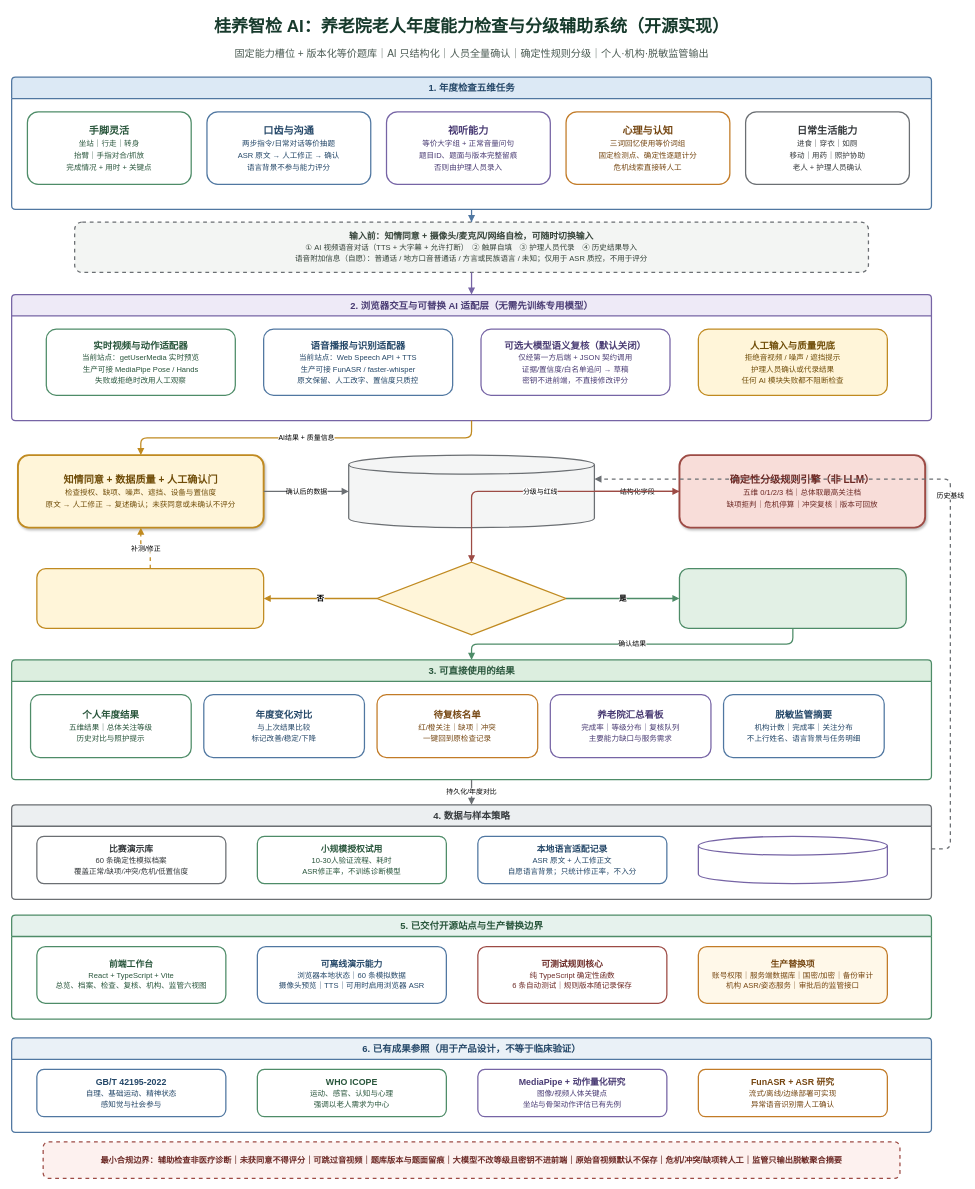
Image size: 975x1189. Some labels were removed from this diagram. The centre of each missing label's shape, as x and y in pixels:
"数据存储 演示：浏览器 localStorage 生产：SQLite/PostgreSQL + 加密 + 审计日志" belongs at (x=792, y=859).
"数据完整且没有危机/冲突？" belongs at (x=471, y=598).
"检查/复核人员确认 确认规则建议或人工处置结论 记录人员、时间与说明，形成审计留痕" belongs at (x=793, y=598).
"结构化年度检查记录 五维逐项记录｜确认文本｜缺项｜质量提醒 题库版本/题目快照｜检查员｜规则版本｜历史结果" belongs at (x=471, y=491).
"补测或人工复核 重做任务｜改用手工录入 危机线索交护理/专业人员" belongs at (x=150, y=598).
